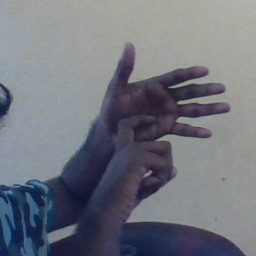R: (83, 37, 235, 194)
